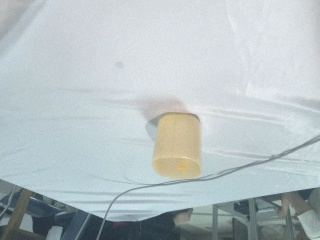cup: (151, 112, 203, 180)
